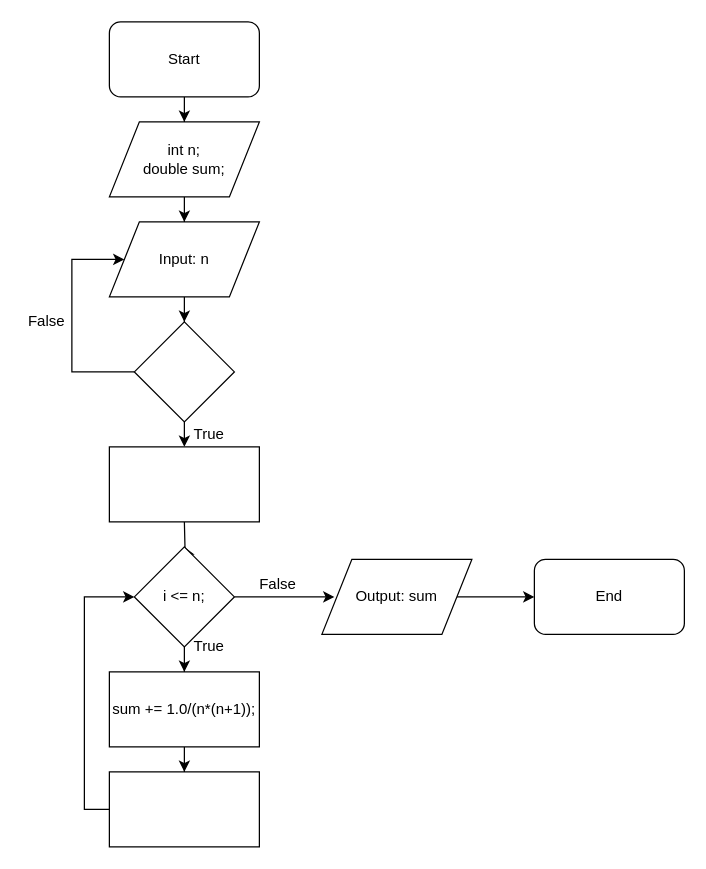
The diagram is 706 pixels wide and 869 high, and some of its shapes have lost their labels. The centre of each missing label's shape, as x and y in pixels:
"++i;" goes at pixel 183 809.
"int i = 1;" goes at pixel 183 484.
"n > 0" goes at pixel 183 371.
